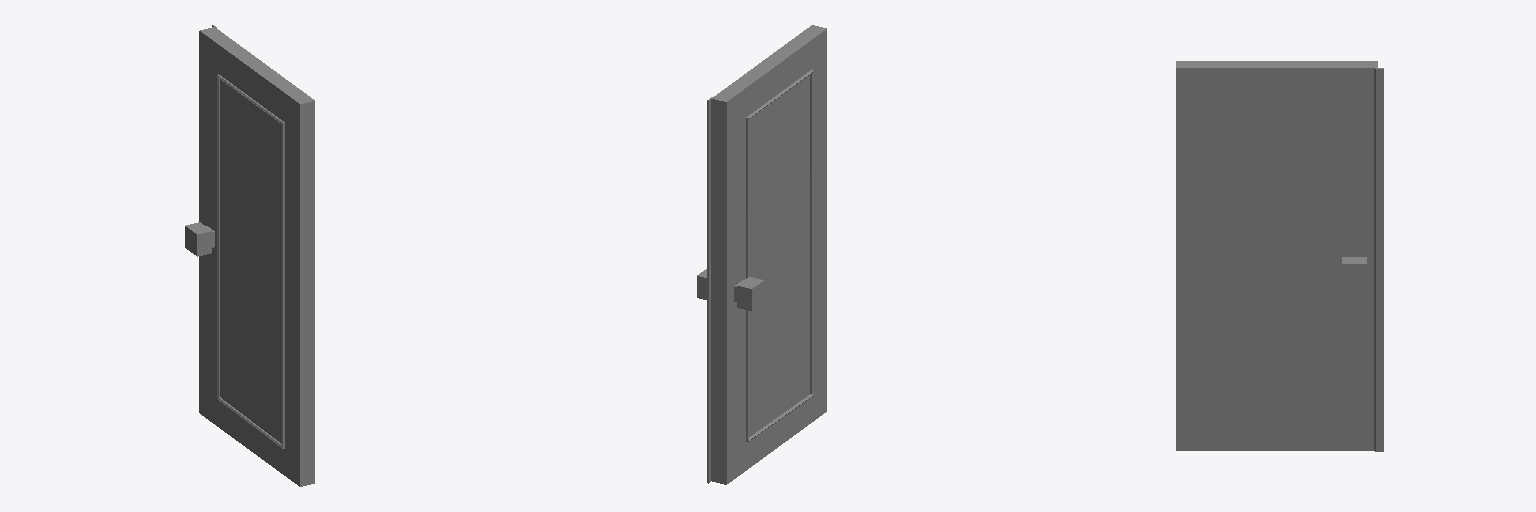
The model's file is classroom_door.obj.
The picture shows the model from 3 angles: view 1: azimuth 30°, elevation 25°; view 2: azimuth 150°, elevation 25°; view 3: azimuth 270°, elevation 25°; orthographic projection.
Visible parts, largest first — view 1: ???; view 2: ???; view 3: ???.
Part boxes in pixels (x1,y1,x2,y2): ???: (185,25,314,486); ???: (697,25,826,484); ???: (1176,61,1383,451).
Size of the model in its own units: 0.3882 by 2.58 by 1.27.